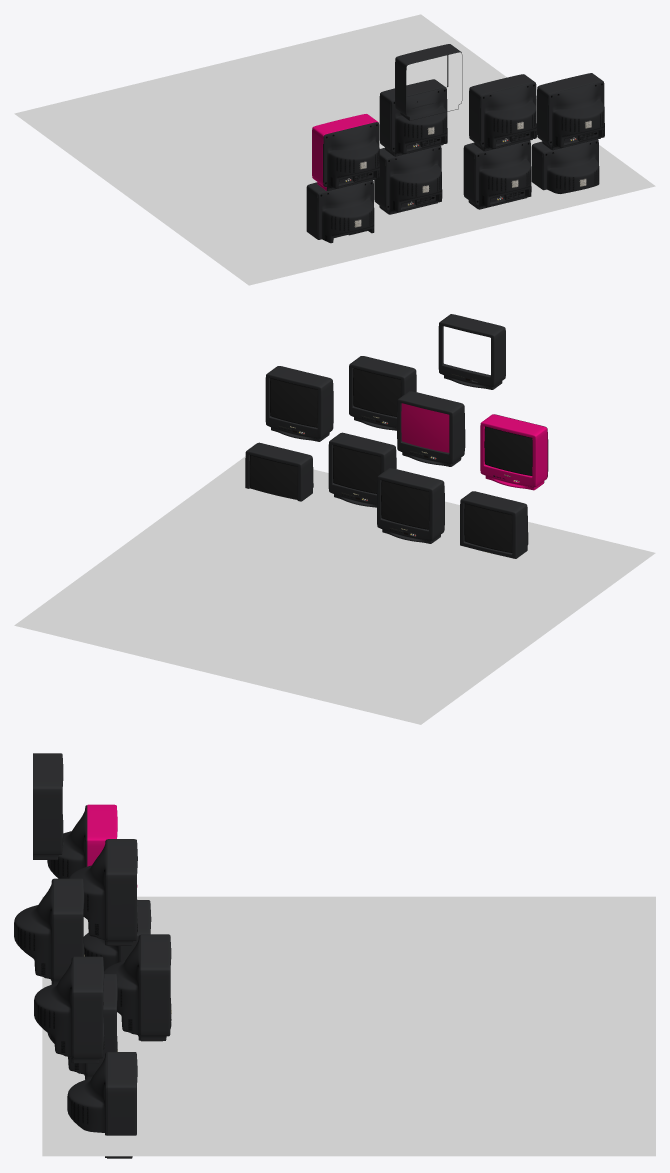
3 views of the same model, one above another, from view 1: azimuth 30°, elevation 25°; view 2: azimuth 150°, elevation 25°; view 3: azimuth 270°, elevation 25° (orthographic). The views are drawn at different scales.
Parts seen in each view (by area): view 1: Plane, rear_section.006, rear_section.007, rear_section.003, rear_section.005, rear_section, rear_section.002, rear_section.001, Front_section.003, rear_section.004, Front_section.007, Front_section.006 (+5 smaller); view 2: Plane, Front_section.003, Front_section.002, Front_section, Front_section.006, Front_section.001, Front_section.005, Front_section.007, Screen.001, Screen.002, Screen.003, Screen (+5 smaller); view 3: Plane, Front_section.003, Front_section, Front_section.006, Front_section.002, Front_section.007, Front_section.004, rear_section.006, rear_section.007, rear_section.004, rear_section.002, rear_section (+4 smaller).
Part boxes in pixels (x1=…): Plane: x1=14, y1=14, x2=655, y2=285; rear_section.006: x1=548, y1=81, x2=604, y2=150; rear_section.007: x1=480, y1=82, x2=536, y2=151; rear_section.003: x1=323, y1=122, x2=379, y2=190; rear_section.005: x1=474, y1=140, x2=531, y2=209; rear_section: x1=385, y1=146, x2=442, y2=214; rear_section.002: x1=391, y1=87, x2=447, y2=156; rear_section.001: x1=317, y1=180, x2=374, y2=243; Front_section.003: x1=312, y1=44, x2=462, y2=190; rear_section.004: x1=542, y1=139, x2=599, y2=193; Front_section.007: x1=469, y1=74, x2=535, y2=151; Front_section.006: x1=537, y1=73, x2=603, y2=149; Plane: x1=14, y1=456, x2=655, y2=724; Front_section.003: x1=438, y1=314, x2=547, y2=490; Front_section.002: x1=397, y1=391, x2=464, y2=466; Front_section: x1=377, y1=468, x2=444, y2=543; Front_section.006: x1=265, y1=366, x2=332, y2=441; Front_section.001: x1=460, y1=491, x2=527, y2=558; Front_section.005: x1=328, y1=433, x2=395, y2=507; Front_section.007: x1=349, y1=356, x2=416, y2=430; Screen.001: x1=464, y1=503, x2=512, y2=552; Screen.002: x1=401, y1=403, x2=449, y2=452; Screen.003: x1=484, y1=426, x2=532, y2=475; Screen: x1=381, y1=480, x2=429, y2=529; Plane: x1=42, y1=896, x2=655, y2=1156; Front_section.003: x1=33, y1=753, x2=117, y2=866; Front_section: x1=140, y1=934, x2=171, y2=1041; Front_section.006: x1=73, y1=956, x2=104, y2=1063; Front_section.002: x1=107, y1=839, x2=137, y2=945; Front_section.007: x1=53, y1=878, x2=84, y2=983; Front_section.004: x1=107, y1=1052, x2=137, y2=1158; rear_section.006: x1=34, y1=957, x2=73, y2=1062; rear_section.007: x1=14, y1=879, x2=53, y2=984; rear_section.004: x1=67, y1=1052, x2=106, y2=1157; rear_section.002: x1=69, y1=839, x2=107, y2=945; rear_section: x1=104, y1=935, x2=140, y2=1040.
Bounding box in the file's own units: 3.37 × 1.62 × 3.52.
Materials: 5 (3 with a texture image).
